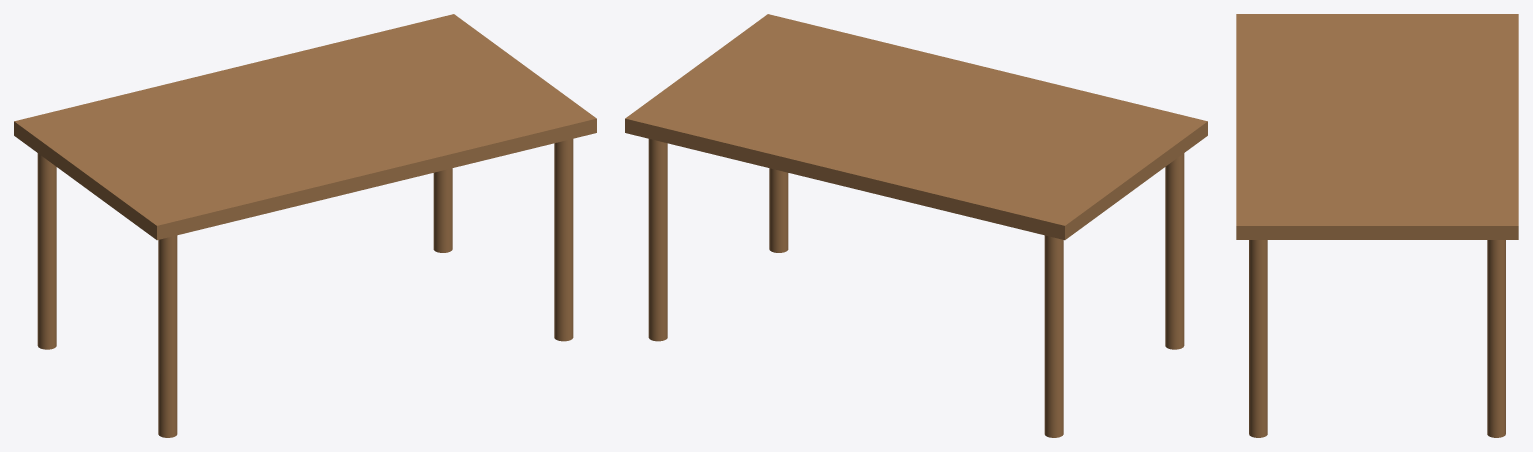
File: dining-table.gltf
The picture shows the model from 3 angles, left to right: view 1: azimuth 30°, elevation 25°; view 2: azimuth 150°, elevation 25°; view 3: azimuth 270°, elevation 25°; orthographic projection.
Size of the model in its own units: 1.6 by 0.77 by 0.9.
